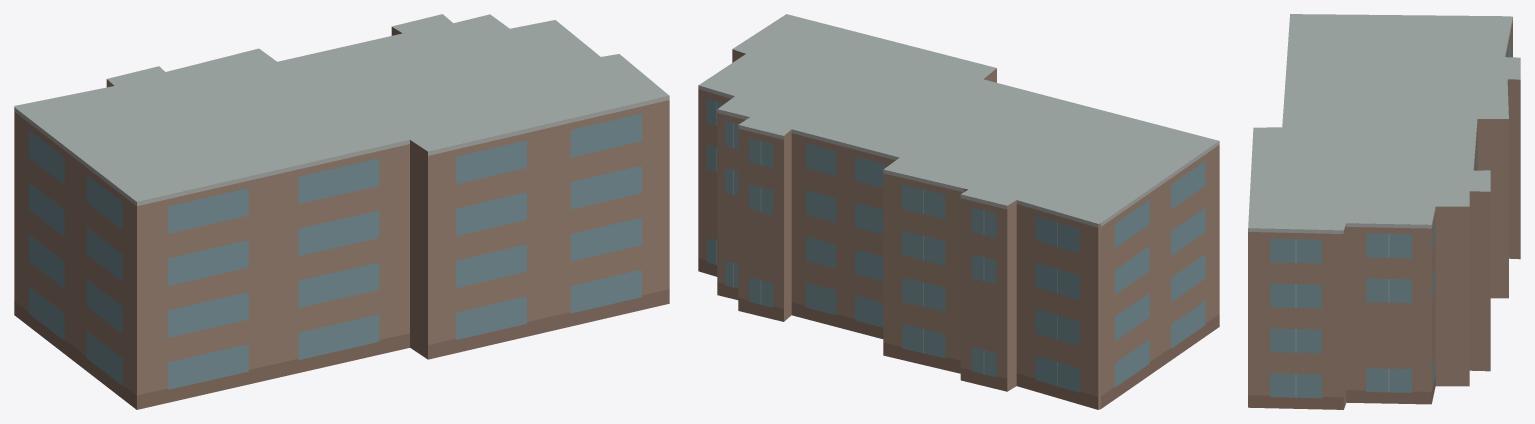
File: survey-upis-32581842.glb
3 renders of one model, left to right at view 1: azimuth 30°, elevation 25°; view 2: azimuth 150°, elevation 25°; view 3: azimuth 270°, elevation 25°, orthographic. The views are drawn at different scales.
Visible parts, largest first — view 1: survey-upis-32581842.tmp; view 2: survey-upis-32581842.tmp; view 3: survey-upis-32581842.tmp.
Part boxes in pixels (bbox=[...]): survey-upis-32581842.tmp: bbox=[14, 14, 669, 409]; survey-upis-32581842.tmp: bbox=[698, 14, 1219, 409]; survey-upis-32581842.tmp: bbox=[1248, 14, 1520, 409].
Bounding box in the file's own units: 30.7 × 11.87 × 16.35.
